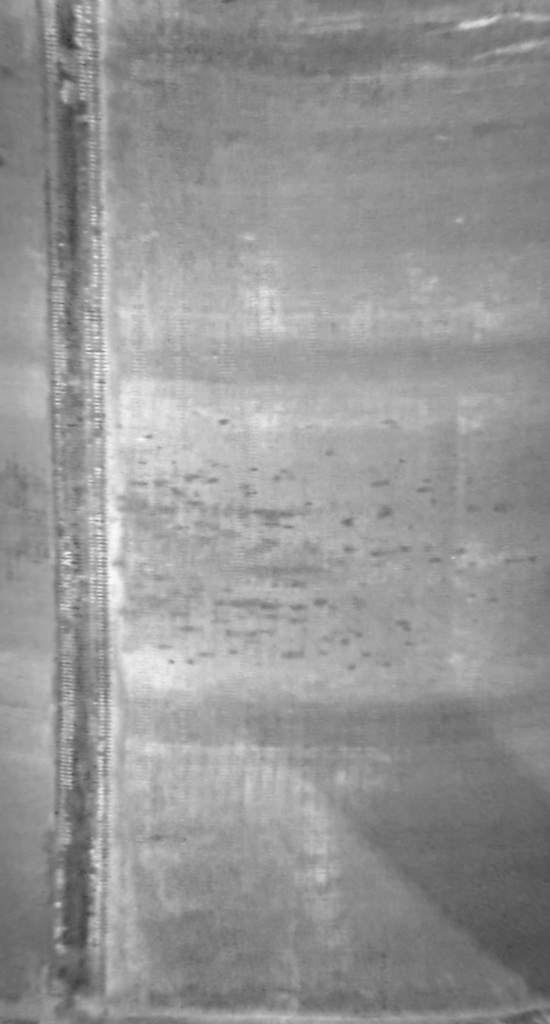splice: (25, 2, 122, 1024)
